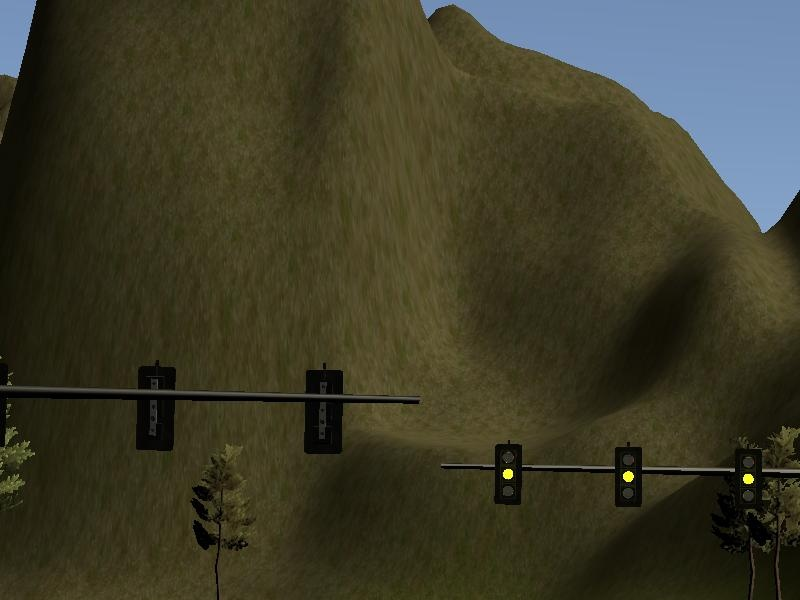YELLOW: (493, 445, 521, 504), (614, 446, 642, 505), (734, 447, 762, 506)
